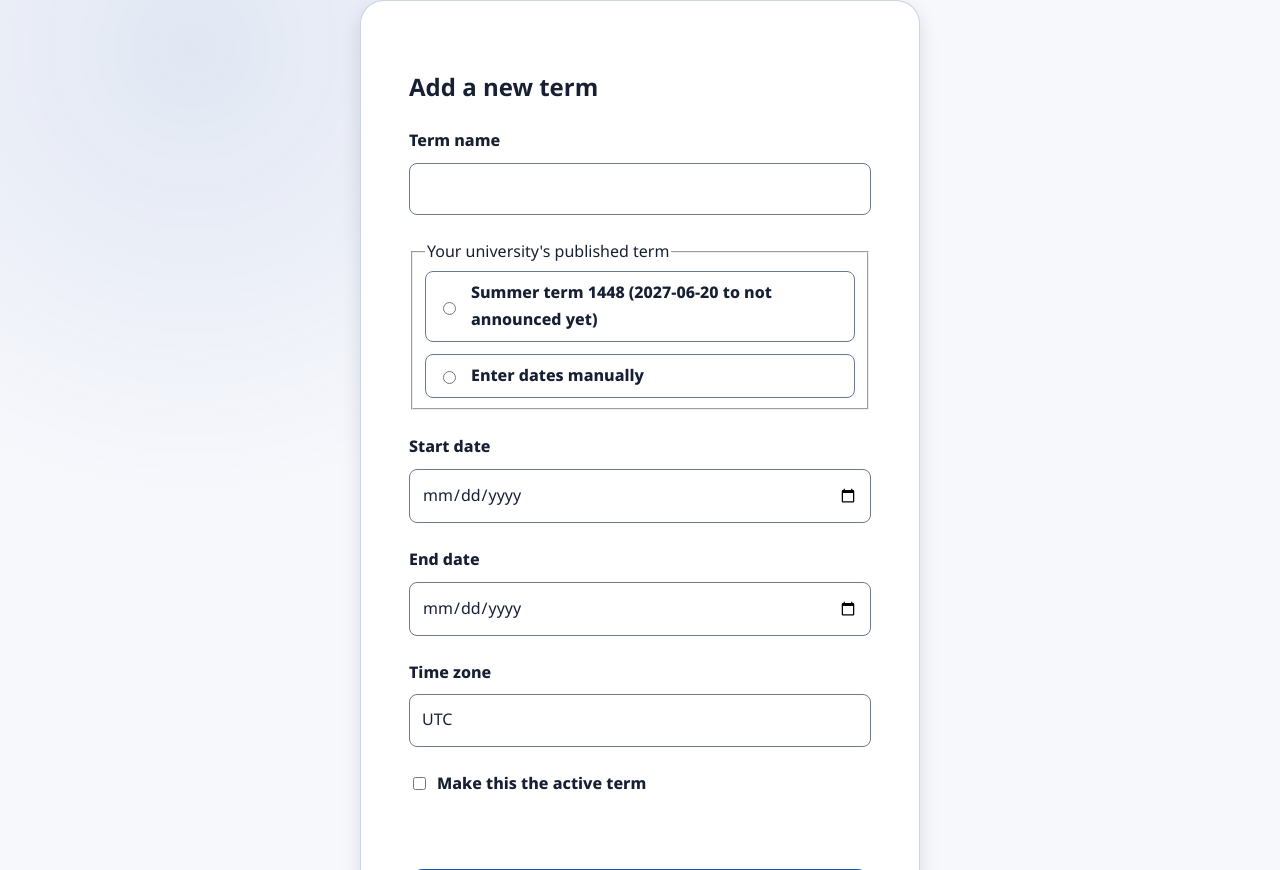
academic term views › labels an unpublished end date and leaves it editable for manual entry
The image size is (1280, 870).
Click the radio button labelled "Summer term 1448 (2027-06-20 to not announced yet)": (450, 308) [443,302,456,315]
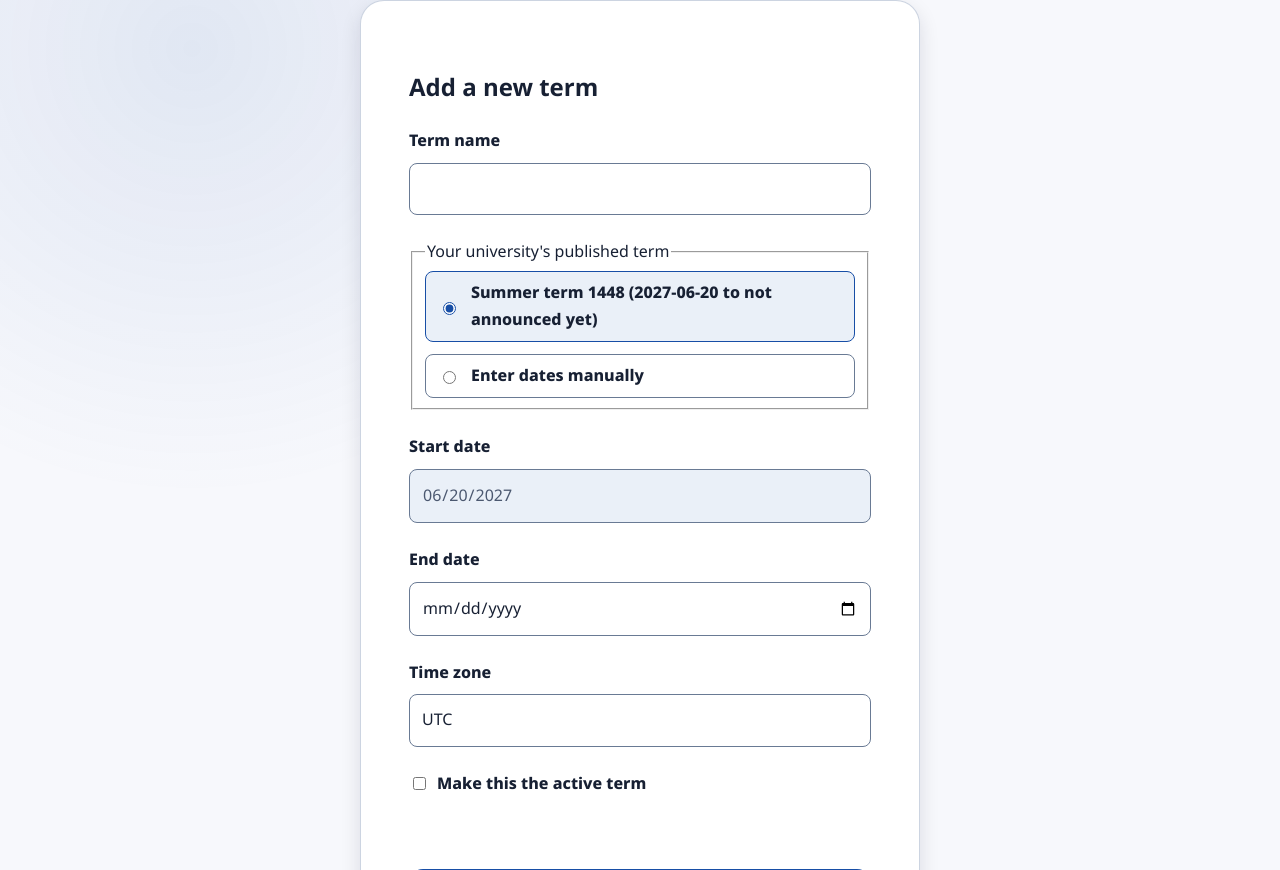
Expected: the date field labelled "End date" is empty, [409,582,871,636]
Expected: the date field labelled "Start date" holds "2027-06-20", [409,469,871,523]
